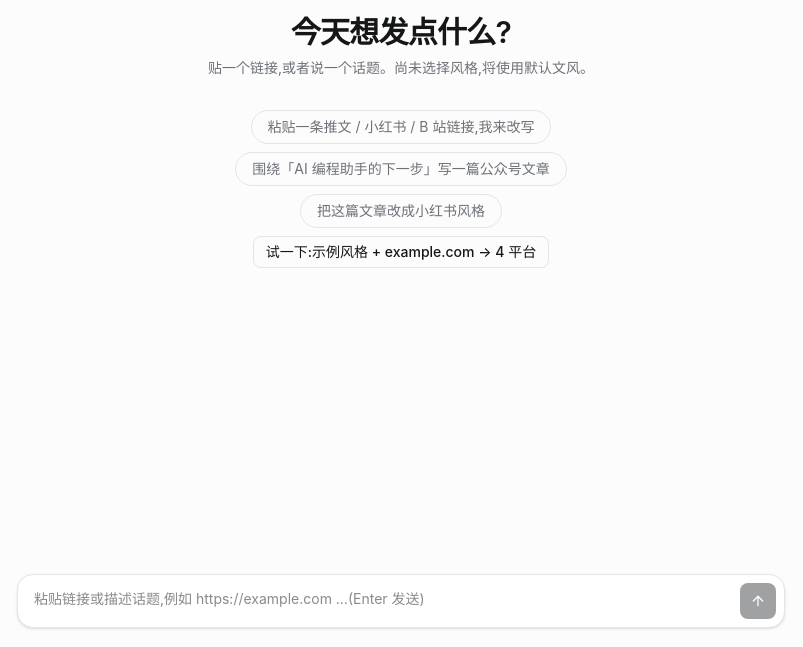
Test: Chat › 试一下 non-Error rejection falls back to 失败了
The width and height of the screenshot is (803, 647).
Step 1. Click the button "试一下:示例风格 + example.com → 4 平台" → (401, 252), box [253,236,549,268]
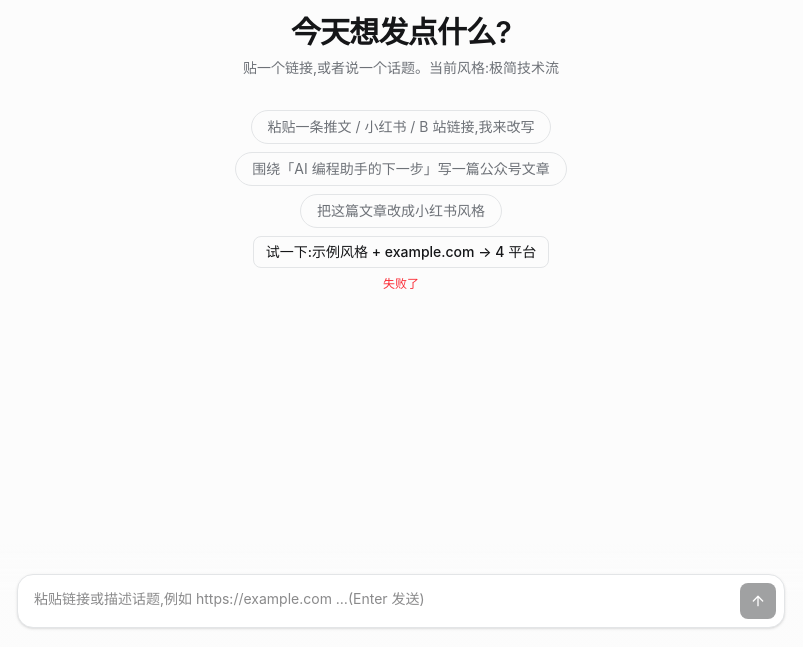
Expected: the text "失败了" is shown, [383,276,419,292]
